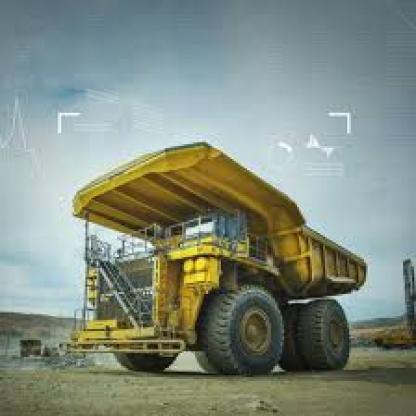dump_truck: (54, 137, 375, 379)
